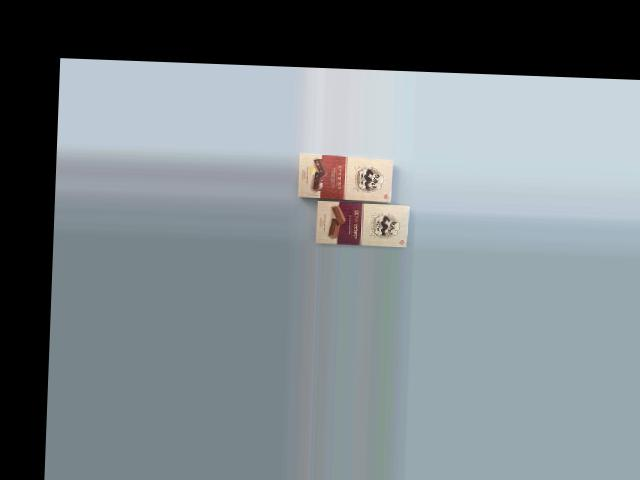chocolate: (295, 151, 397, 212)
